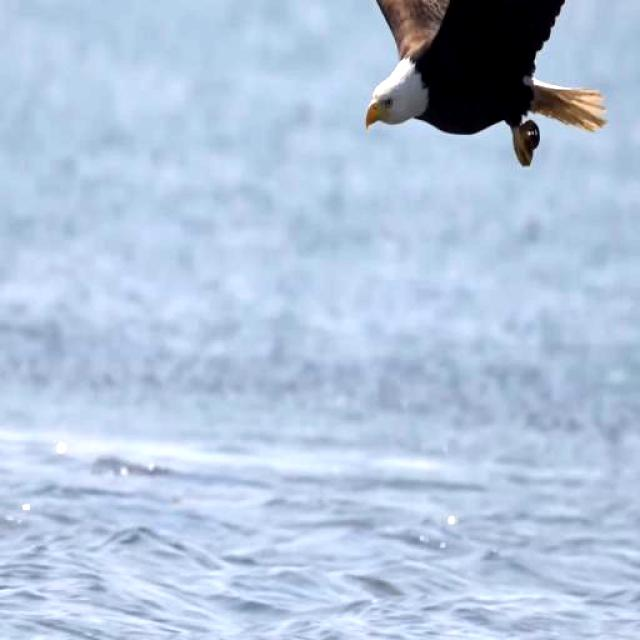airplane: (304, 0, 640, 214)
